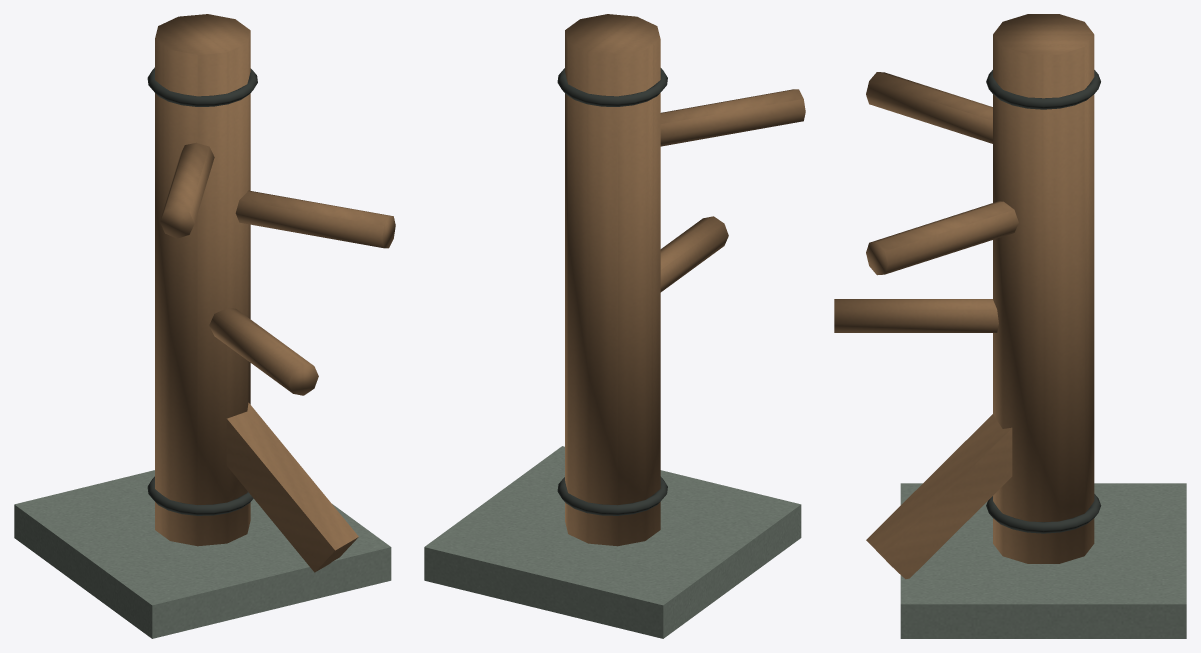
The model's file is arm_dummy.glb.
3 views of the same model, side by side, from view 1: azimuth 30°, elevation 25°; view 2: azimuth 150°, elevation 25°; view 3: azimuth 270°, elevation 25° (orthographic). The views are drawn at different scales.
Visible parts, largest first — view 1: Training_PracticeWood, Training_WornStone, Training_Iron; view 2: Training_PracticeWood, Training_WornStone, Training_Iron; view 3: Training_PracticeWood, Training_WornStone, Training_Iron.
Boxes of the visible parts, x1=… form: Training_PracticeWood: x1=155, y1=14, x2=395, y2=572; Training_WornStone: x1=14, y1=470, x2=391, y2=638; Training_Iron: x1=147, y1=67, x2=257, y2=515; Training_PracticeWood: x1=565, y1=14, x2=805, y2=546; Training_WornStone: x1=424, y1=446, x2=801, y2=638; Training_Iron: x1=557, y1=68, x2=667, y2=515; Training_PracticeWood: x1=834, y1=14, x2=1094, y2=579; Training_WornStone: x1=900, y1=483, x2=1186, y2=638; Training_Iron: x1=986, y1=70, x2=1101, y2=533.
Size of the model in its own units: 0.82 by 1.72 by 1.01.
Materials: 3 (2 with a texture image).
